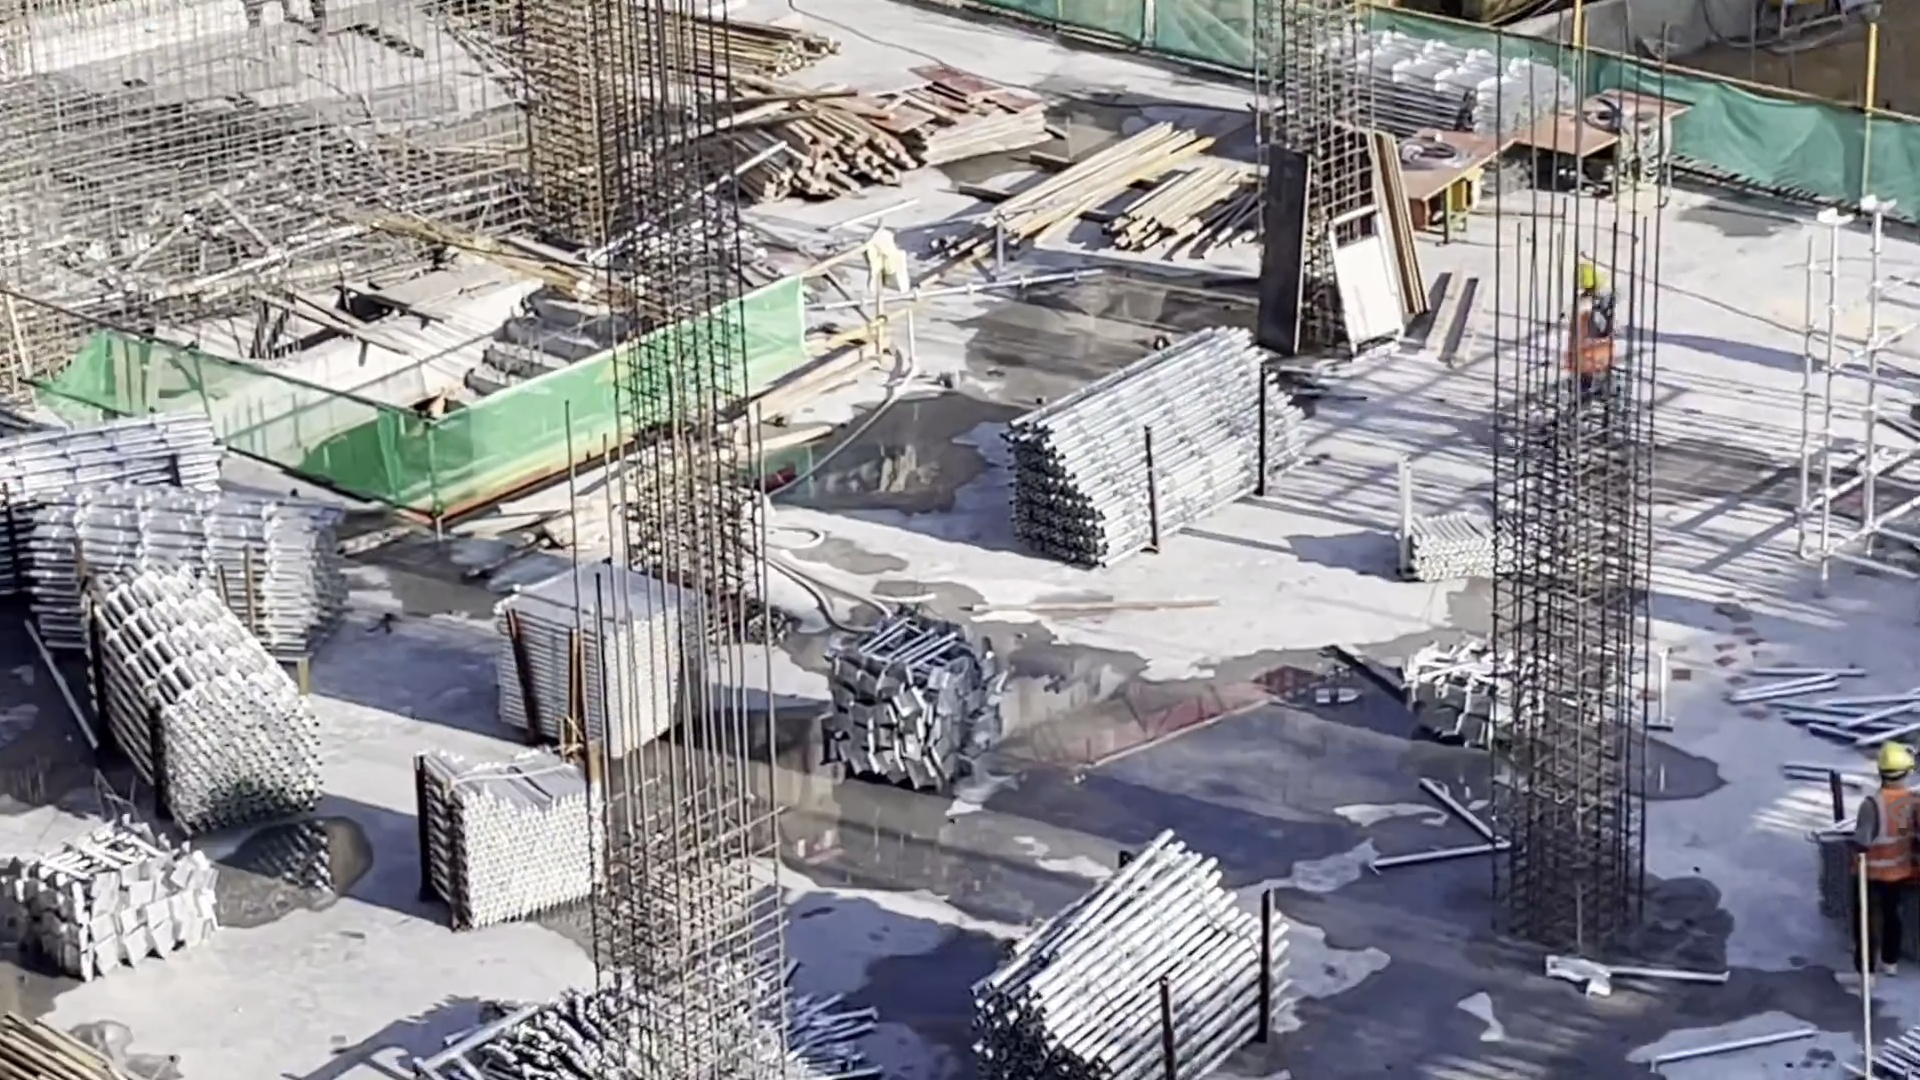board: (913, 67, 1029, 144)
cutter: (1538, 92, 1686, 165), (1371, 142, 1502, 223)
helmet: (1870, 738, 1916, 780), (1574, 264, 1608, 288)
person: (1854, 734, 1920, 998), (1560, 264, 1643, 438)
scaffold: (967, 842, 1291, 1074), (90, 572, 288, 832), (1044, 341, 1276, 532), (463, 976, 876, 1080), (60, 485, 321, 623), (501, 570, 694, 745), (424, 762, 609, 926), (1, 421, 214, 532), (1300, 21, 1501, 120), (1388, 472, 1512, 586)
vest: (1859, 792, 1920, 881), (1566, 307, 1612, 371)
wood: (1008, 119, 1184, 227), (548, 18, 805, 83), (741, 121, 905, 181), (1120, 180, 1236, 249)
